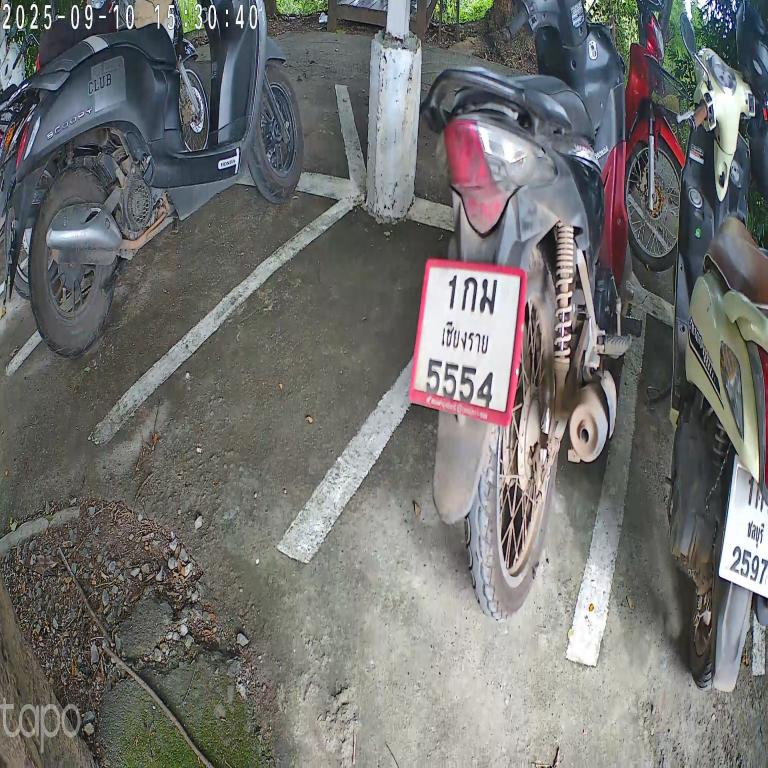license plate: (404, 240, 530, 433), (715, 446, 768, 607)
